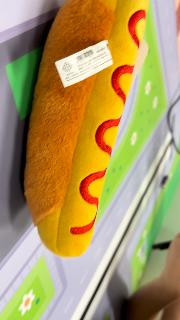hotdog: (22, 1, 150, 259)
